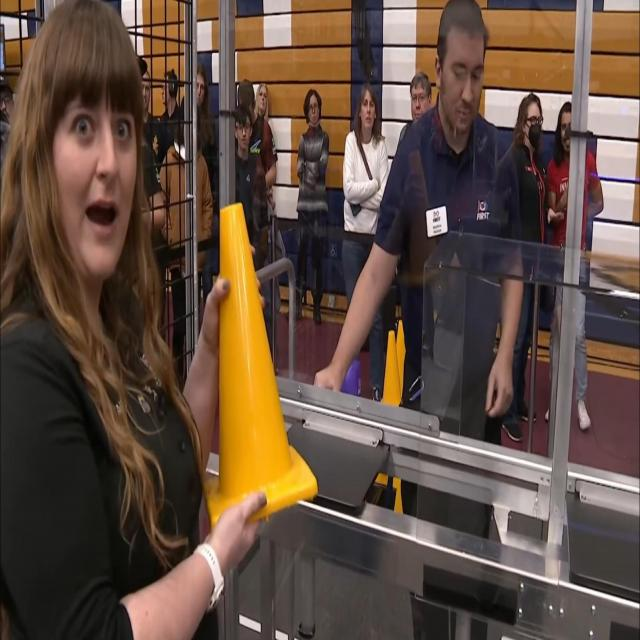frc_cone: (194, 203, 320, 531), (378, 329, 400, 419), (396, 318, 408, 390)
frc_cube: (344, 359, 363, 397)
